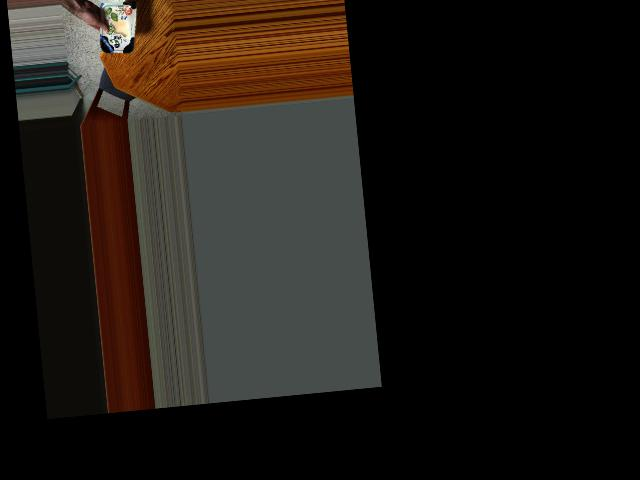cheese: (96, 4, 137, 53)
